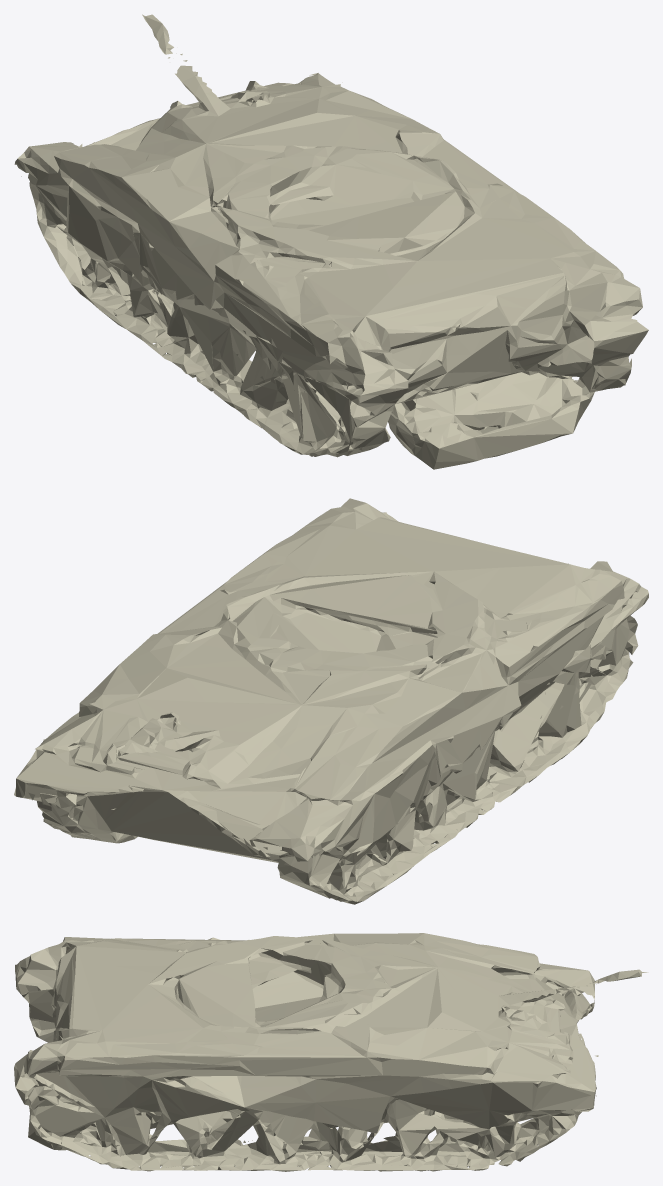
File: mbt_merkava.glb
3 renders of one model, top to bottom at view 1: azimuth 30°, elevation 25°; view 2: azimuth 150°, elevation 25°; view 3: azimuth 270°, elevation 25°, orthographic. The views are drawn at different scales.
Visible parts, largest first — view 1: Merkova1_Bottom; view 2: Merkova1_Bottom; view 3: Merkova1_Bottom.
Part boxes in pixels (<box>): Merkova1_Bottom: <box>14,14,648,469</box>; Merkova1_Bottom: <box>14,498,648,904</box>; Merkova1_Bottom: <box>14,933,648,1171</box>.
Size of the model in its own units: 4.19 by 2.31 by 8.75.
